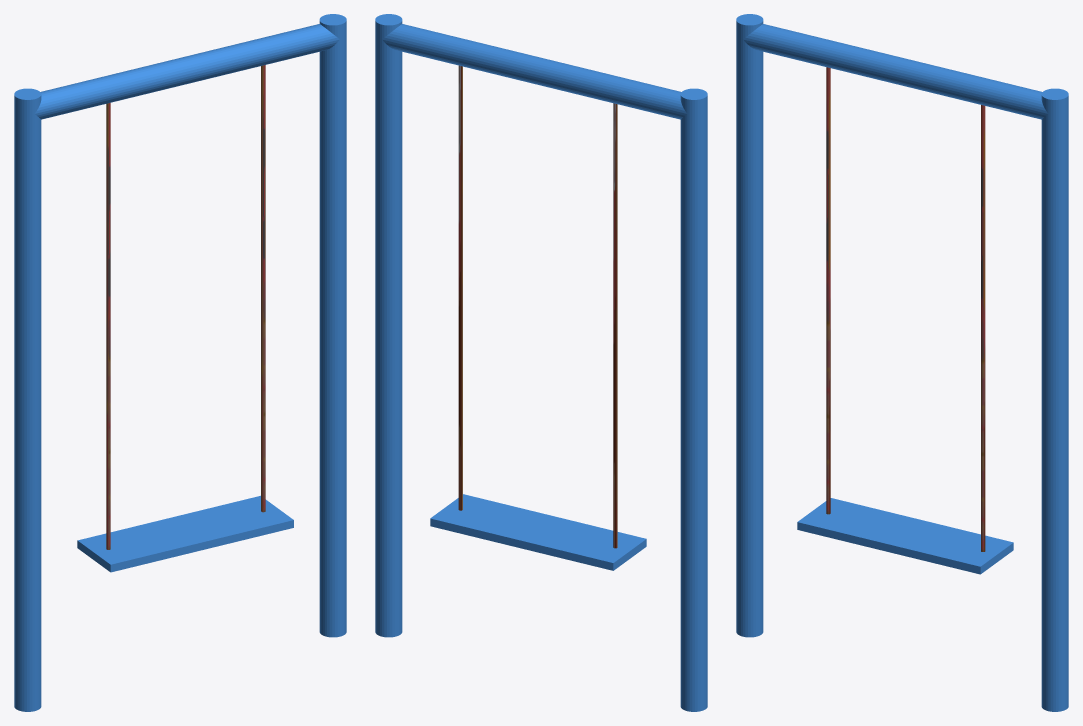
Rendered from Ayunan.fbx.
The picture shows the model from 3 angles, left to right: view 1: azimuth 30°, elevation 25°; view 2: azimuth 150°, elevation 25°; view 3: azimuth 330°, elevation 25°; orthographic projection.
Parts seen in each view (by area): view 1: rambut.002; view 2: rambut.002; view 3: rambut.002.
Part boxes in pixels (box(x1,y1,x2,y2)): rambut.002: box(14, 14, 346, 711); rambut.002: box(375, 14, 707, 711); rambut.002: box(736, 14, 1068, 711).
Size of the model in its own units: 149 by 264 by 25.99.
